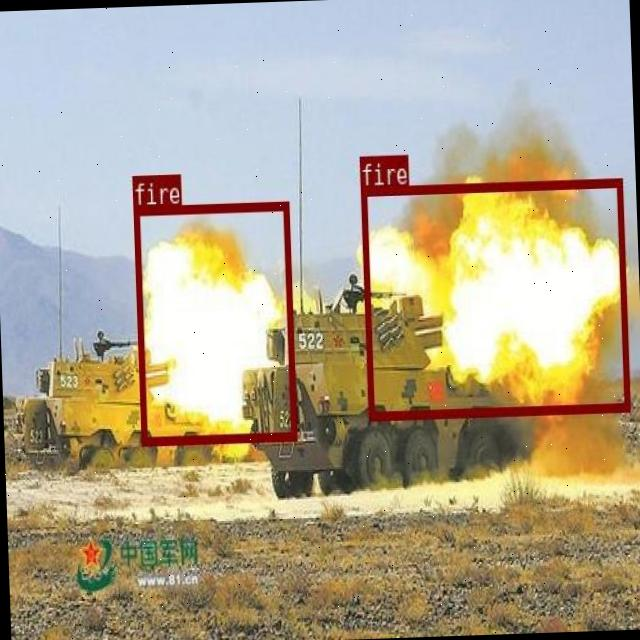fire: (360, 178, 628, 418), (132, 201, 295, 444)
